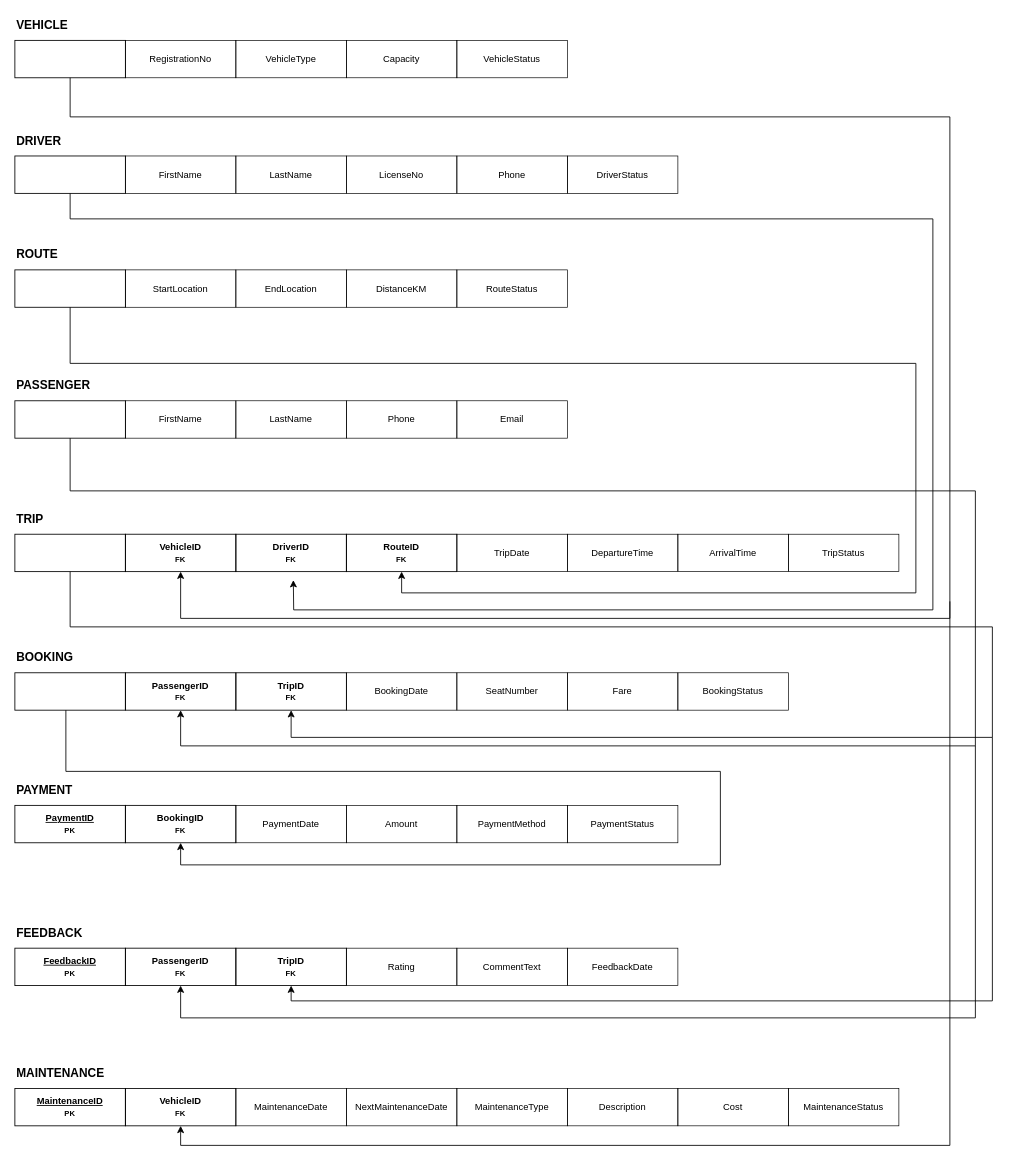
Some shapes in this 1014 by 1167 pixel diagram are drawn without their labels. The shapes that lost their labels are listed below. From the top down, each one's centre as x and y in pixels, then its label:
At (x=69, y=59): "VehicleID PK".
At (x=69, y=174): "DriverID PK".
At (x=69, y=288): "RouteID PK".
At (x=69, y=419): "PassengerID PK".
At (x=69, y=552): "TripID PK".
At (x=69, y=691): "BookingID PK".
